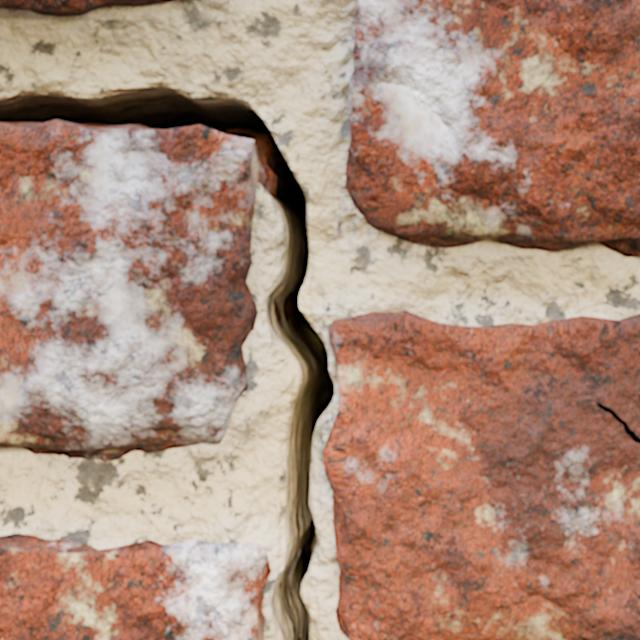crack: (0, 77, 336, 639), (322, 310, 639, 639), (346, 0, 639, 256), (0, 533, 270, 639), (0, 0, 173, 16)
